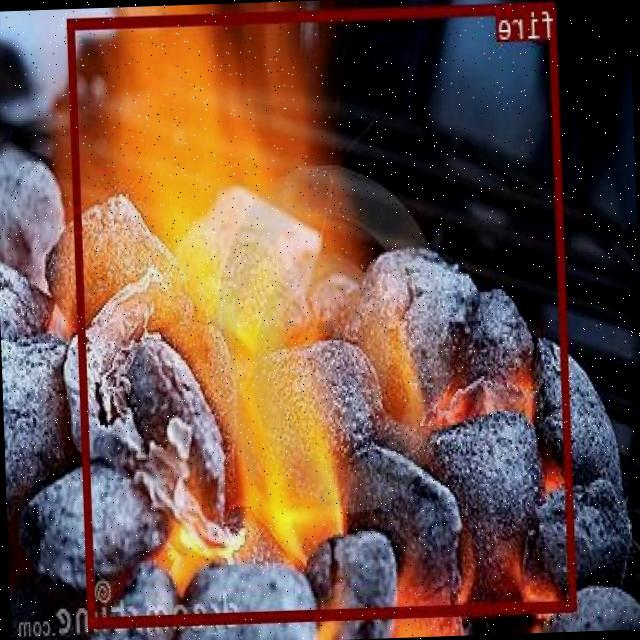fire: (69, 0, 576, 625)
